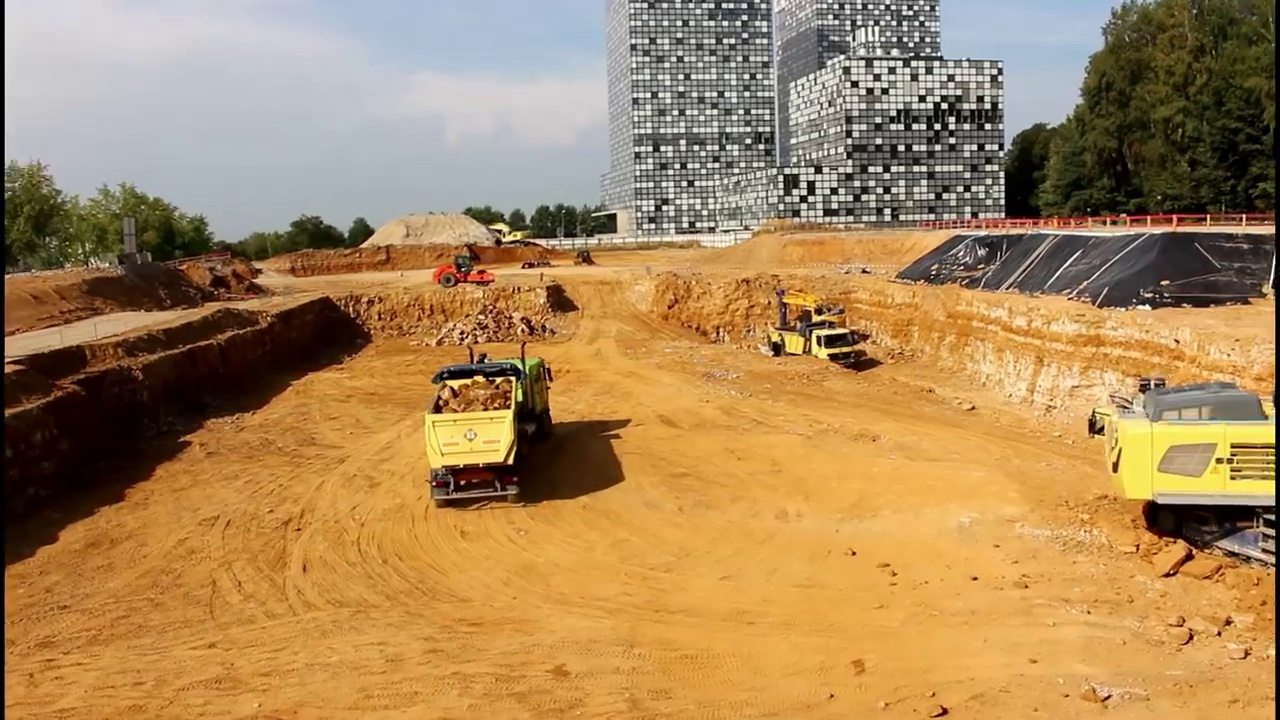compactor: (433, 255, 499, 293)
excavator: (1100, 374, 1280, 575), (762, 285, 854, 350), (486, 219, 533, 252)
truck: (420, 337, 560, 510), (769, 323, 858, 382)
